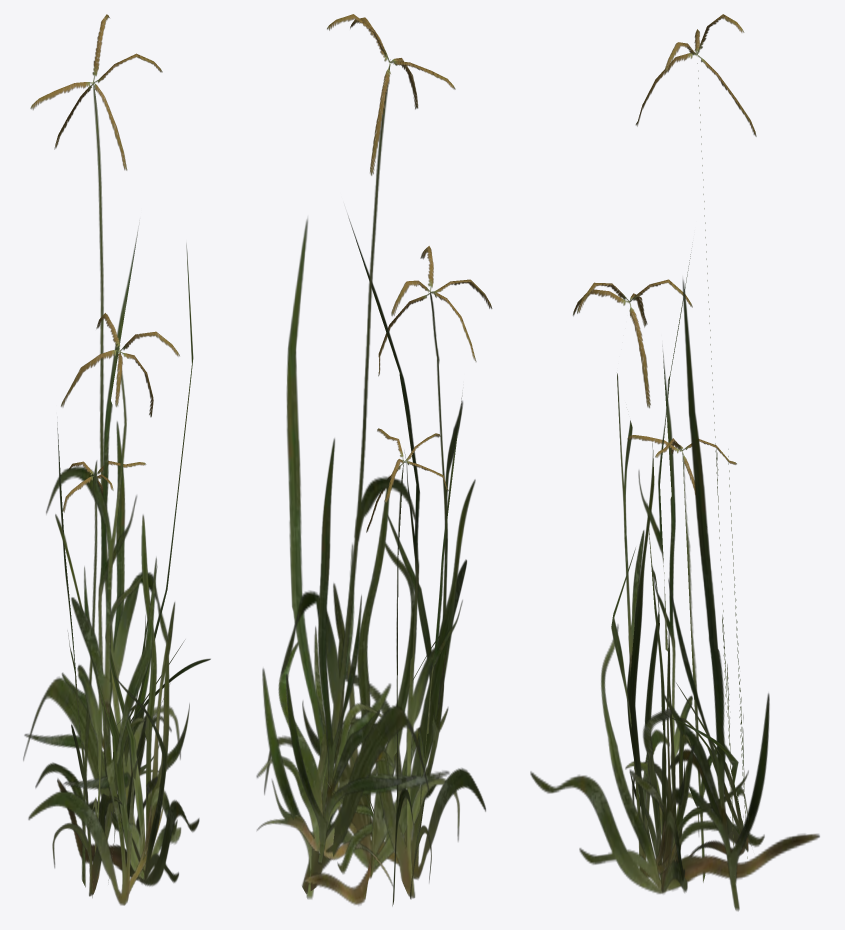
Rendered from grass_clump_b.glb.
3 views of the same model, side by side, from view 1: azimuth 30°, elevation 25°; view 2: azimuth 150°, elevation 25°; view 3: azimuth 270°, elevation 25° (orthographic). The views are drawn at different scales.
Parts seen in each view (by area): view 1: grass_bermuda_01_medium_c.001, grass_bermuda_01_seedling_b.001, grass_bermuda_01_seedling_a.001, grass_bermuda_01_medium_f.001, grass_bermuda_01_medium_e.001, grass_bermuda_01_seedling_c.001; view 2: grass_bermuda_01_seedling_a.001, grass_bermuda_01_medium_c.001, grass_bermuda_01_medium_e.001, grass_bermuda_01_medium_f.001, grass_bermuda_01_seedling_b.001, grass_bermuda_01_seedling_c.001; view 3: grass_bermuda_01_medium_c.001, grass_bermuda_01_seedling_a.001, grass_bermuda_01_seedling_b.001, grass_bermuda_01_medium_f.001, grass_bermuda_01_medium_e.001, grass_bermuda_01_seedling_c.001.
Boxes of the visible parts, x1,y1,x2,y2 form: grass_bermuda_01_medium_c.001: [55, 514, 199, 886]; grass_bermuda_01_seedling_b.001: [28, 313, 179, 905]; grass_bermuda_01_seedling_a.001: [23, 14, 193, 839]; grass_bermuda_01_medium_f.001: [52, 231, 145, 897]; grass_bermuda_01_medium_e.001: [24, 421, 210, 880]; grass_bermuda_01_seedling_c.001: [35, 461, 146, 887]; grass_bermuda_01_seedling_a.001: [262, 14, 455, 899]; grass_bermuda_01_medium_c.001: [302, 476, 475, 905]; grass_bermuda_01_medium_e.001: [256, 438, 415, 886]; grass_bermuda_01_medium_f.001: [342, 216, 462, 899]; grass_bermuda_01_seedling_b.001: [338, 246, 492, 879]; grass_bermuda_01_seedling_c.001: [366, 428, 448, 906]; grass_bermuda_01_medium_c.001: [530, 443, 819, 893]; grass_bermuda_01_seedling_a.001: [635, 14, 769, 911]; grass_bermuda_01_seedling_b.001: [573, 279, 692, 877]; grass_bermuda_01_medium_f.001: [625, 254, 699, 862]; grass_bermuda_01_medium_e.001: [666, 449, 751, 858]; grass_bermuda_01_seedling_c.001: [627, 435, 736, 882].
Bounding box in the file's own units: 1.19 × 5.01 × 1.59.
Materials: 1 (1 with a texture image).
